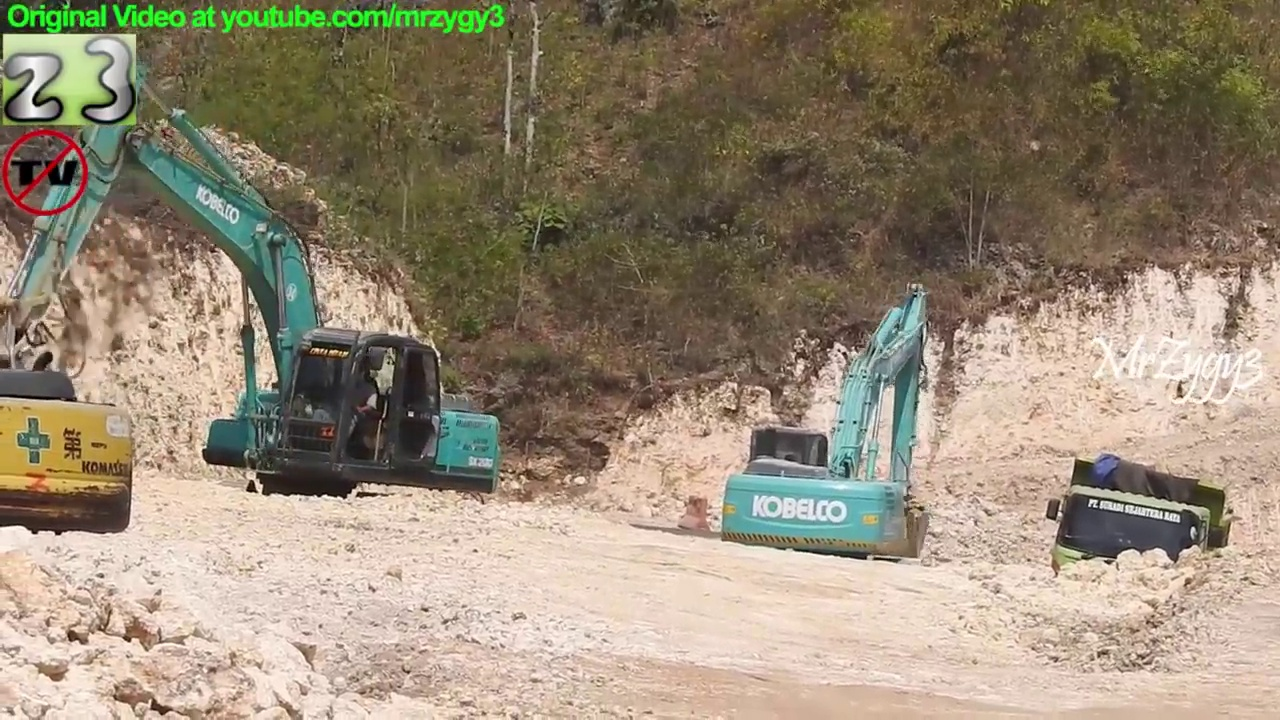excavator: (1, 55, 510, 543), (713, 275, 946, 605), (1, 341, 144, 545)
truck: (1037, 450, 1243, 645)
